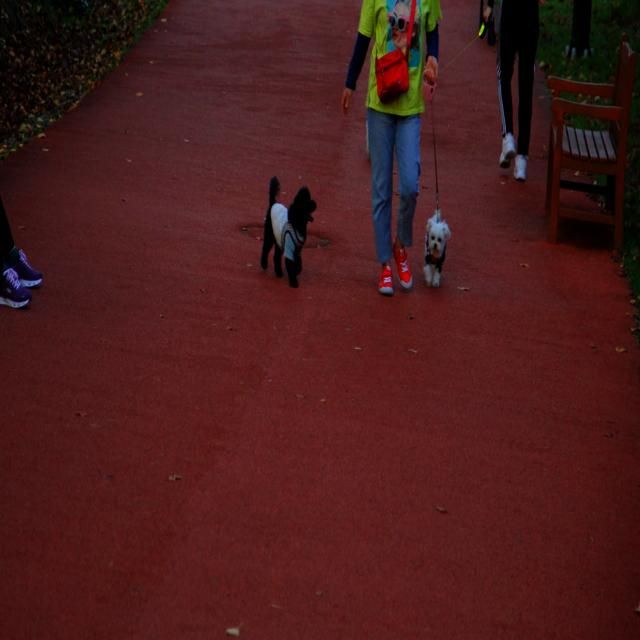Leashed_Dog: (407, 54, 452, 297)
Unleashed_Dog: (261, 78, 385, 286)
